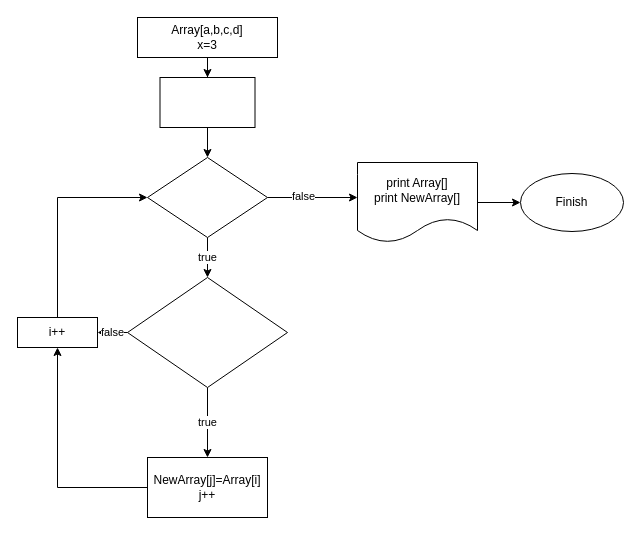
Some shapes in this 641 by 535 pixel diagram are drawn without their labels. The shapes that lost their labels are listed below. From the top down, each one's box as (x1, y1, x2, y2) in pixels, then its label:
(159, 76, 255, 128): i=0 j=0 NewArray[]
(146, 156, 268, 238): i<Array.Length
(126, 276, 288, 388): Array[i]<=x
